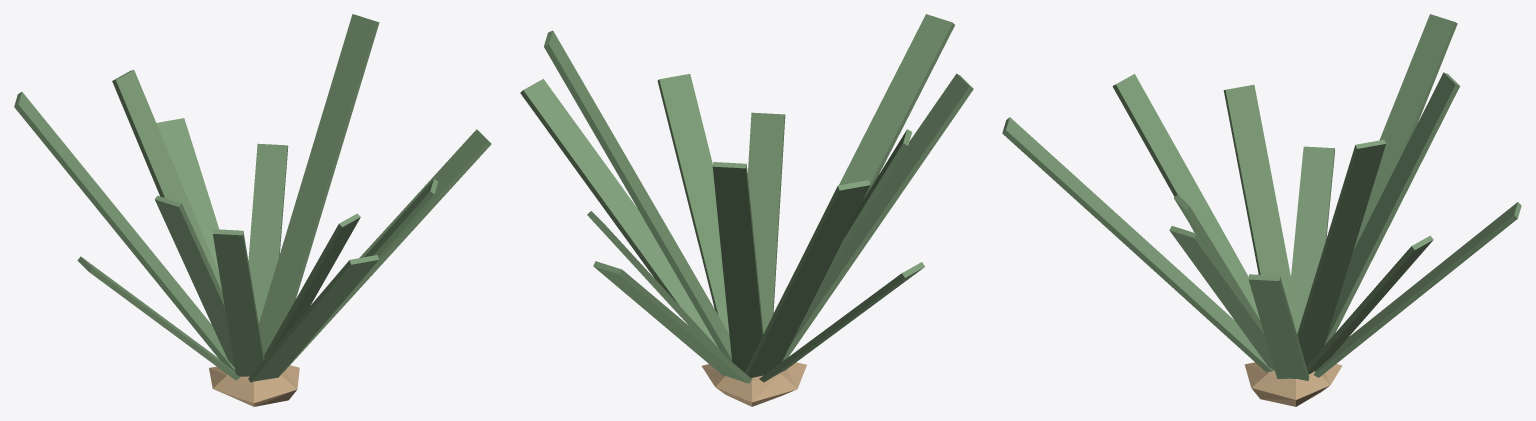
File: wipe-day-survival-island-fibre-plant-f6f0c05c__27432.glb
The picture shows the model from 3 angles, left to right: view 1: azimuth 30°, elevation 25°; view 2: azimuth 150°, elevation 25°; view 3: azimuth 270°, elevation 25°; orthographic projection. The views are drawn at different scales.
Parts seen in each view (by area): view 1: fibre-plant; view 2: fibre-plant; view 3: fibre-plant.
Boxes of the visible parts, x1,y1,x2,y2 form: fibre-plant: [14, 14, 491, 406]; fibre-plant: [520, 14, 973, 406]; fibre-plant: [1002, 14, 1521, 406].
Bounding box in the file's own units: 1.19 × 0.9157 × 1.33.
